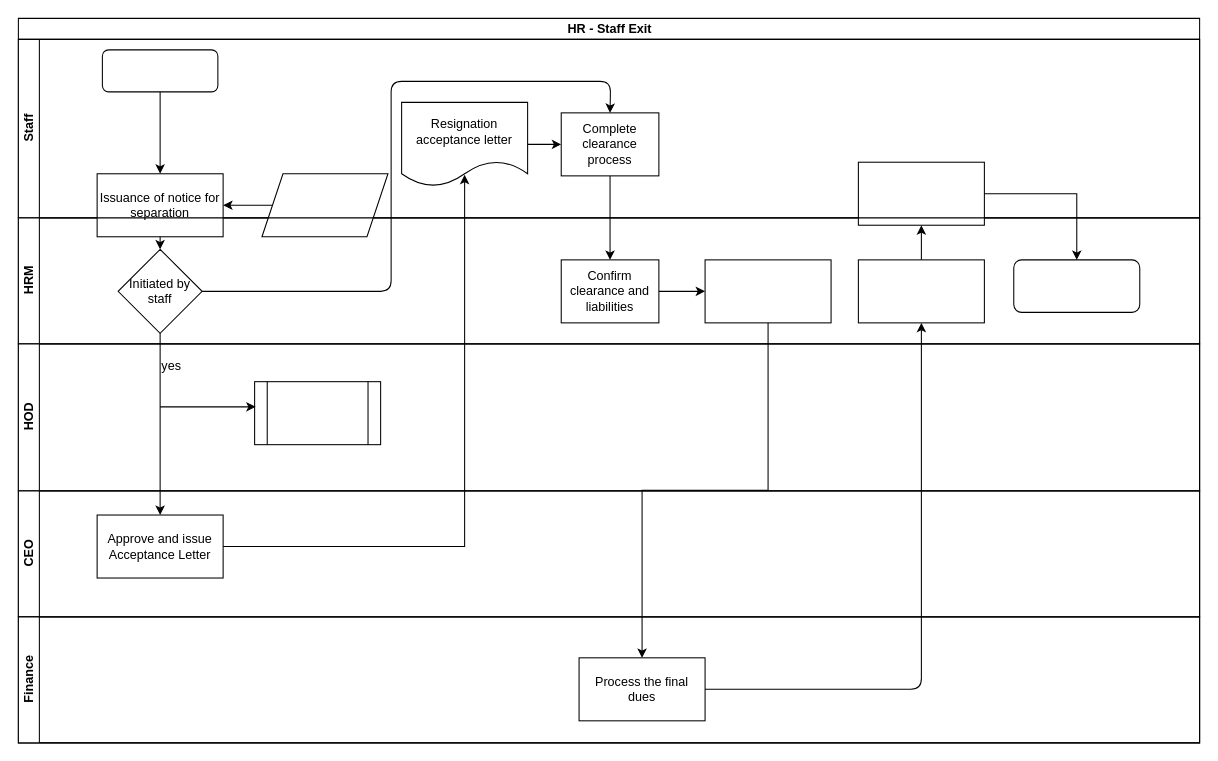
This 1218x761 diagram has some shape labels left out. The shapes that lost their labels are listed below. From the top down, each one's centre as x and y in pixels, then its label:
(x=159, y=70): Start
(x=324, y=205): Type of separation
(x=920, y=193): Fill discharge voucher and File in HR
(x=767, y=291): Issue certificate of service and notify finance
(x=920, y=291): Review final dues payment
(x=1076, y=285): End
(x=317, y=413): HOD is notified
